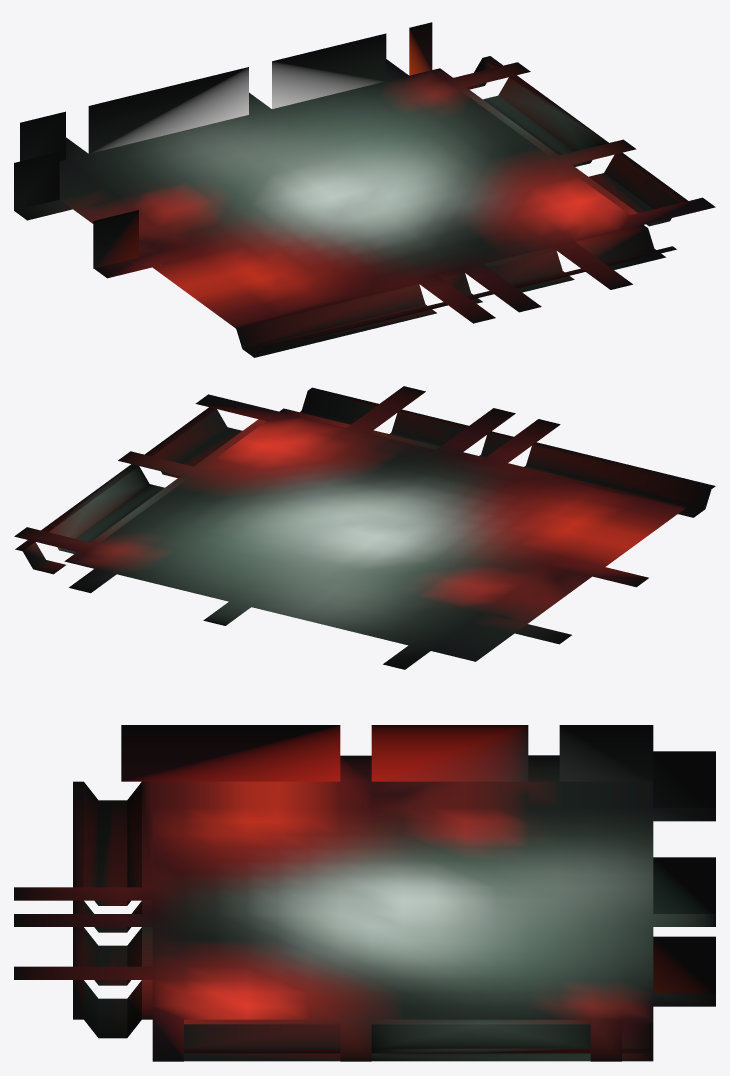
Rendered from ground.glb.
3 views of the same model, one above another, from view 1: azimuth 30°, elevation 25°; view 2: azimuth 150°, elevation 25°; view 3: azimuth 270°, elevation 25° (orthographic). The views are drawn at different scales.
Parts seen in each view (by area): view 1: ground; view 2: ground; view 3: ground.
Part boxes in pixels (x1,y1,x2,y2): ground: (14,22,715,357); ground: (14,386,715,669); ground: (14,725,715,1061).
Size of the model in its own units: 23.16 by 2.66 by 22.43.
